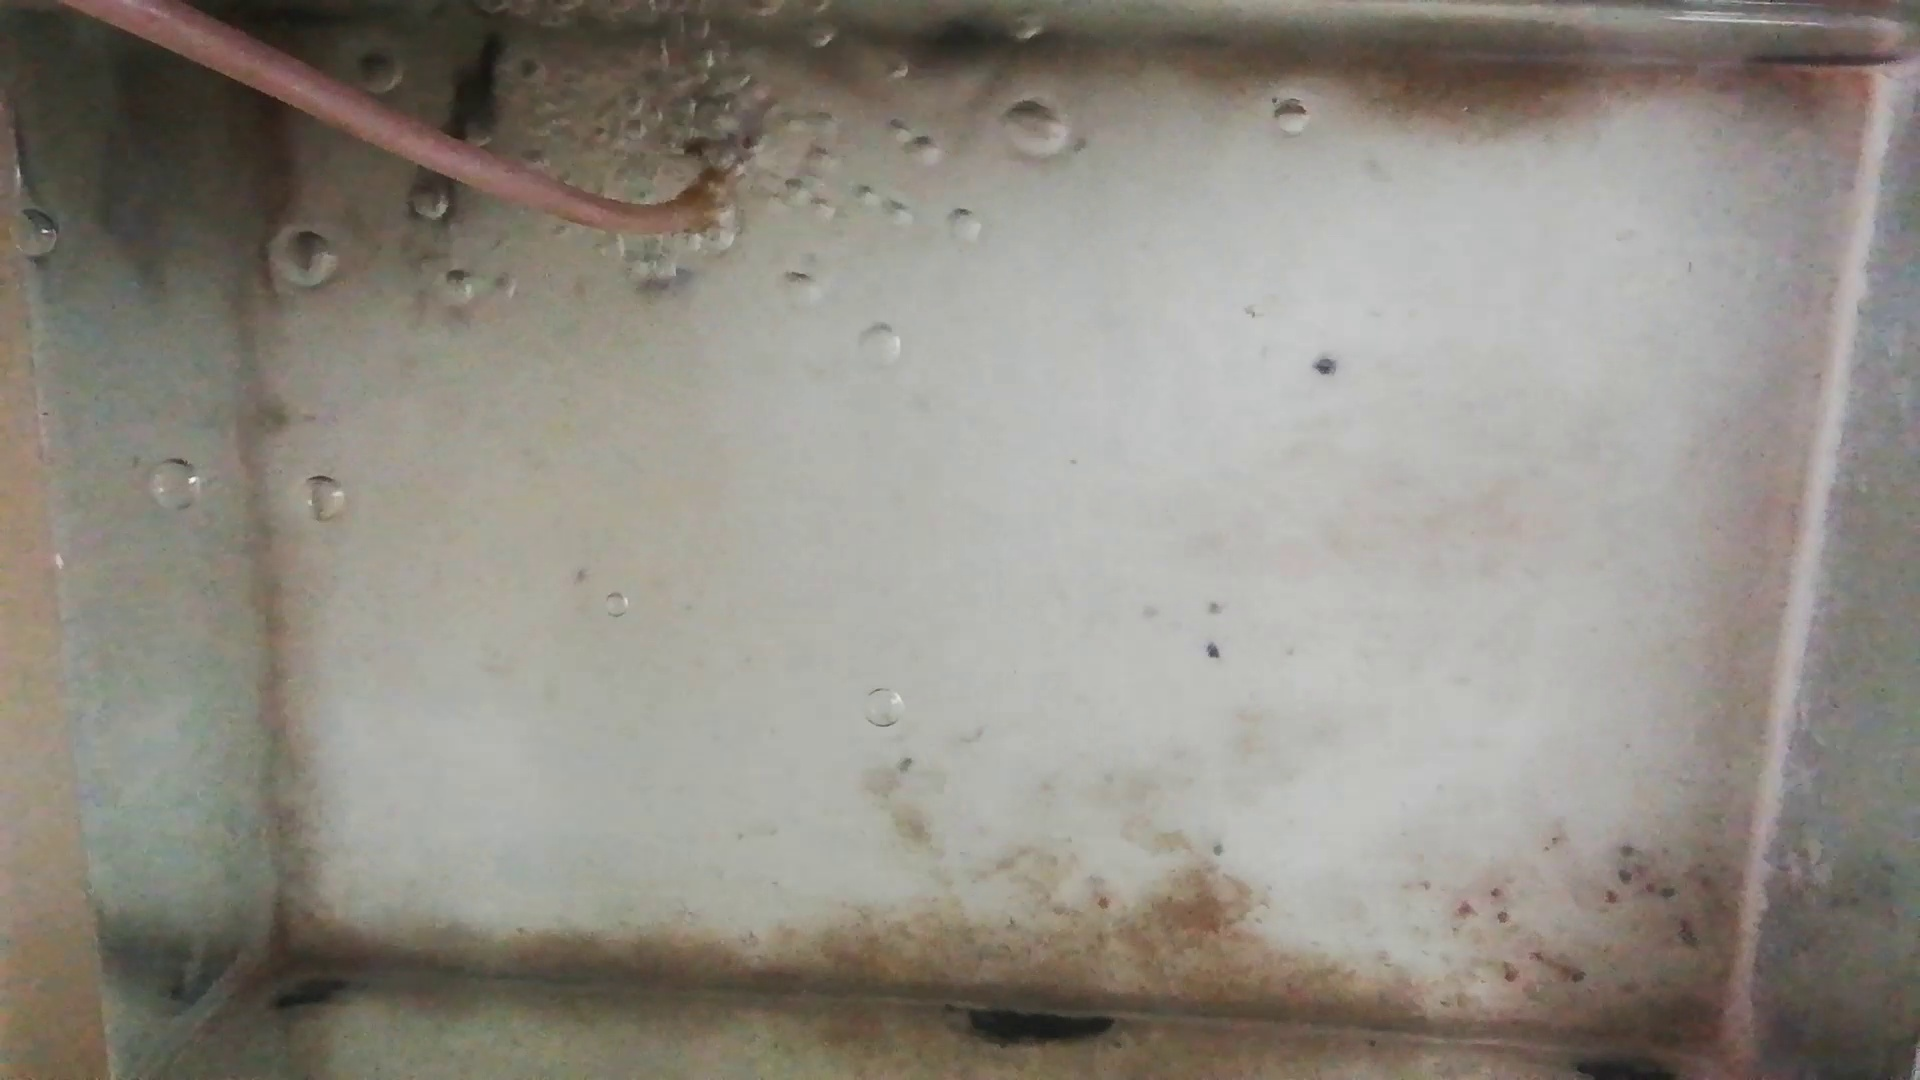fish: (407, 38, 502, 245), (252, 92, 295, 295)
